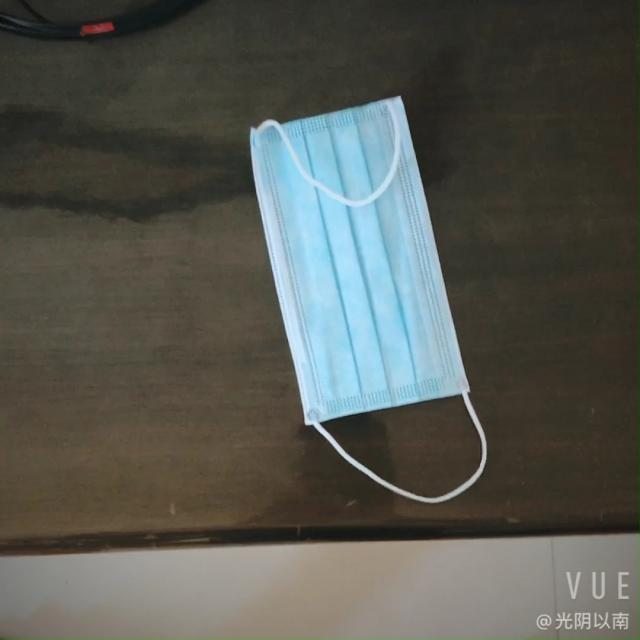face mask: (245, 89, 486, 445)
